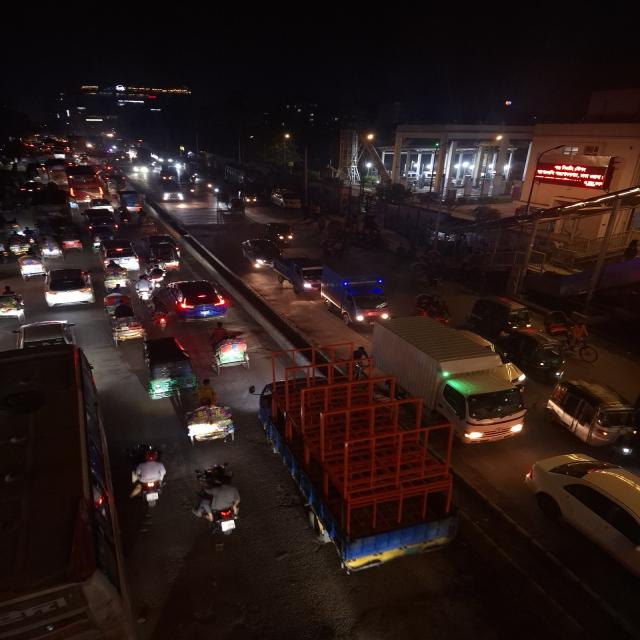bus: (0, 347, 120, 640), (65, 167, 106, 200)
car: (165, 280, 238, 326), (41, 266, 97, 312), (240, 241, 276, 267), (101, 237, 135, 262), (82, 211, 121, 231), (160, 179, 184, 208)
cng: (548, 376, 636, 448), (140, 336, 205, 402), (509, 328, 562, 378), (271, 220, 298, 250)
motorcycle: (194, 463, 250, 541), (126, 441, 165, 511), (135, 276, 152, 308)
pickup_van: (272, 256, 322, 294)
rickshaw: (181, 392, 248, 448), (205, 323, 259, 376), (548, 312, 594, 356), (110, 302, 148, 347), (102, 259, 134, 294), (56, 227, 84, 255), (20, 251, 42, 284), (2, 286, 22, 322), (37, 233, 61, 260)
truck: (250, 335, 459, 580), (368, 313, 528, 450), (319, 259, 391, 325), (120, 189, 146, 215)
